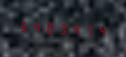five: (17, 17, 29, 35)
four: (95, 21, 107, 39), (30, 18, 42, 35), (69, 20, 81, 37)
seven: (82, 21, 94, 38)
three: (56, 19, 68, 37)
zero: (43, 18, 55, 36)
